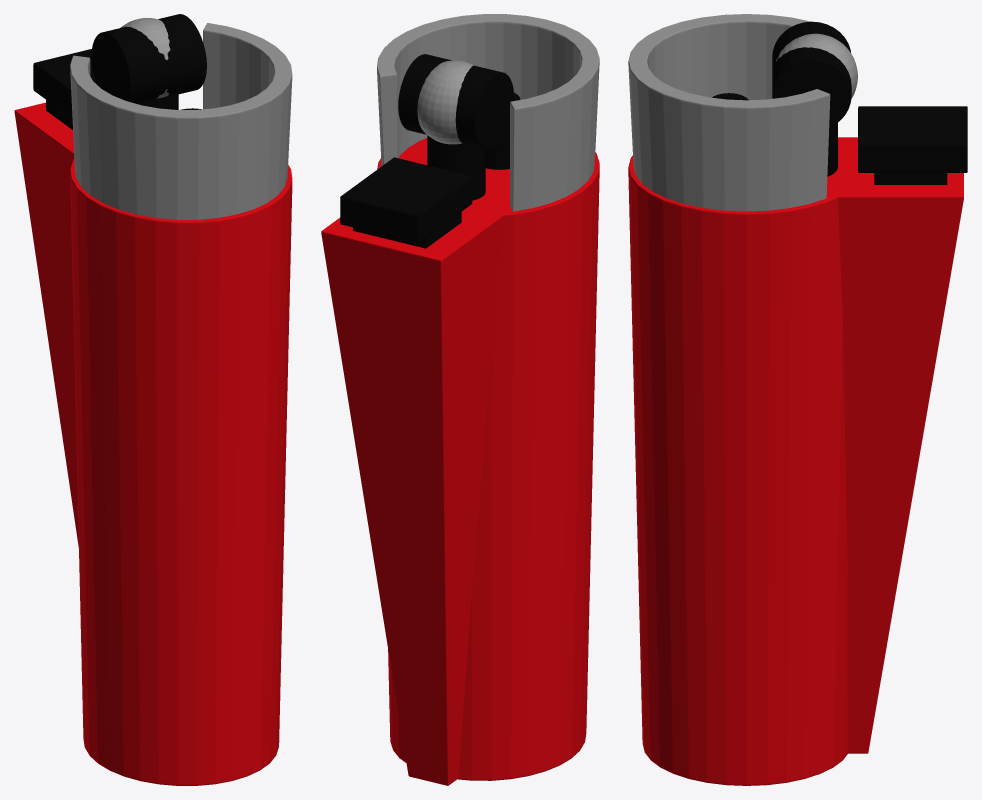
File: MECHEROMAYA1.fbx
3 views of the same model, side by side, from view 1: azimuth 30°, elevation 25°; view 2: azimuth 150°, elevation 25°; view 3: azimuth 270°, elevation 25° (orthographic).
Visible parts, largest first — view 1: Cylinder; view 2: Cylinder; view 3: Cylinder.
Part boxes in pixels (left/top/right/bottom): Cylinder: left=14, top=14, right=292, bottom=785; Cylinder: left=321, top=14, right=599, bottom=785; Cylinder: left=628, top=14, right=967, bottom=785.
Bounding box in the file's own units: 61.4 × 216 × 93.9.
